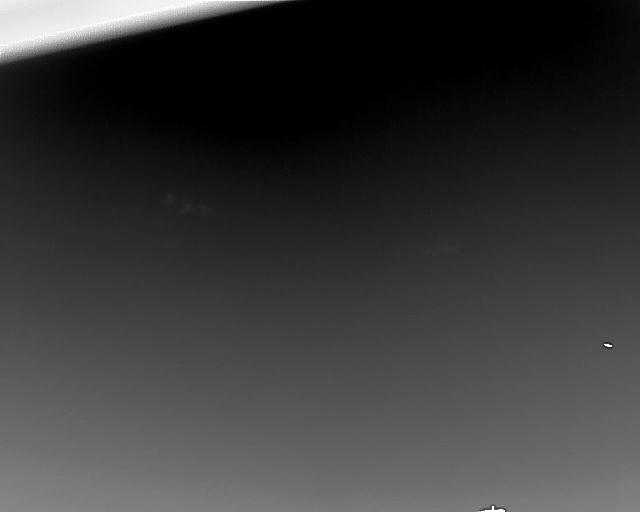fpv-drone: (602, 342, 613, 349)
